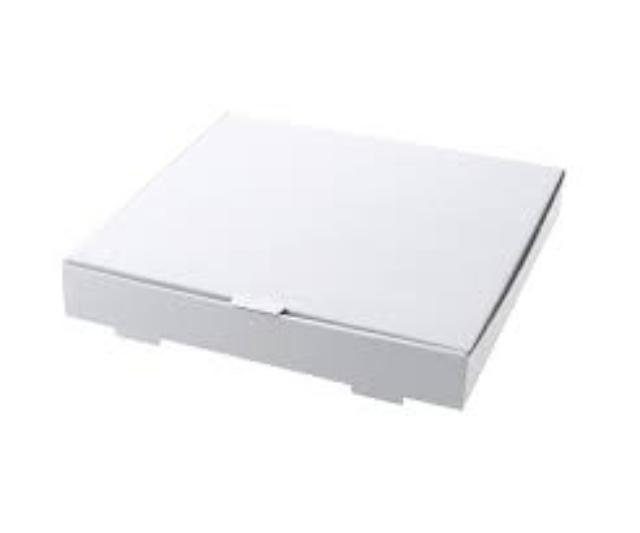cardboard paper: (60, 120, 559, 403)
